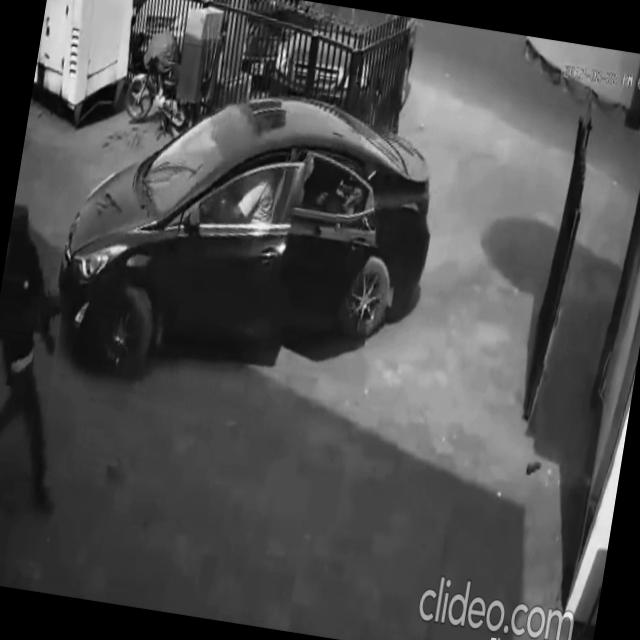gun: (19, 272, 94, 358), (317, 164, 374, 211)
person with a gun: (0, 196, 106, 520), (302, 152, 378, 232)
